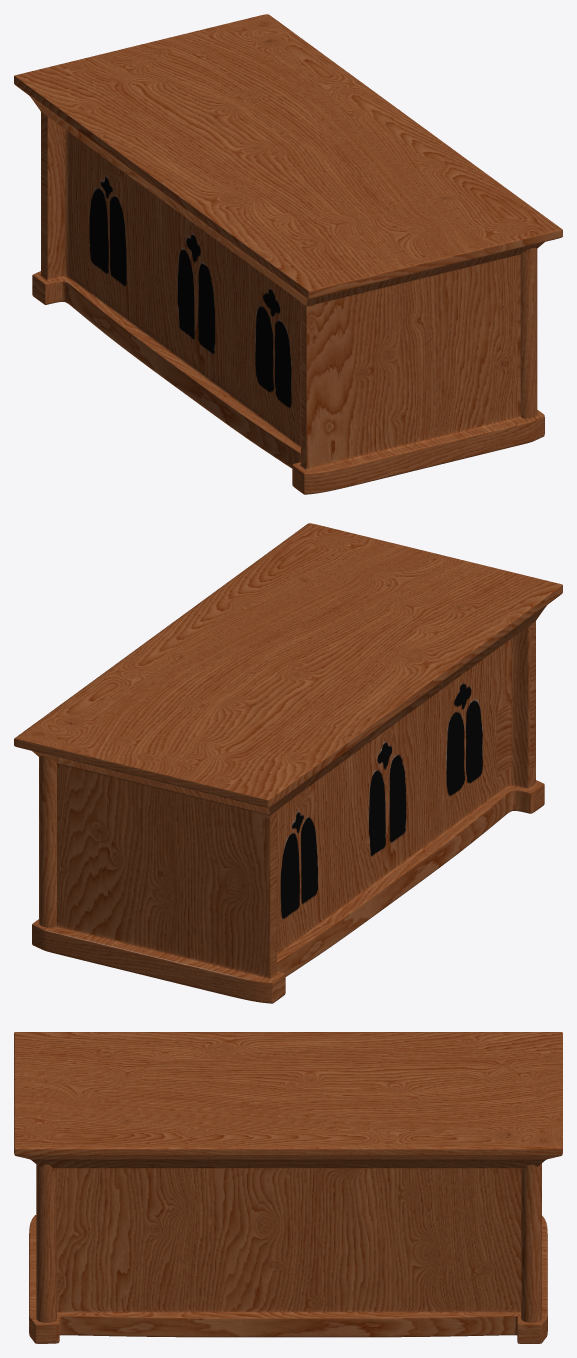
File: ALTAR_UNITY_READY.fbx
3 views of the same model, one above another, from view 1: azimuth 30°, elevation 25°; view 2: azimuth 150°, elevation 25°; view 3: azimuth 270°, elevation 25° (orthographic). The views are drawn at different scales.
Parts seen in each view (by area): view 1: Altar; view 2: Altar; view 3: Altar.
Boxes of the visible parts, left/top/right/bottom form: Altar: left=14, top=14, right=562, bottom=494; Altar: left=14, top=523, right=562, bottom=1003; Altar: left=14, top=1032, right=562, bottom=1343.
Bounding box in the file's own units: 1 × 0.8034 × 2.
1 material, 1 textured.
